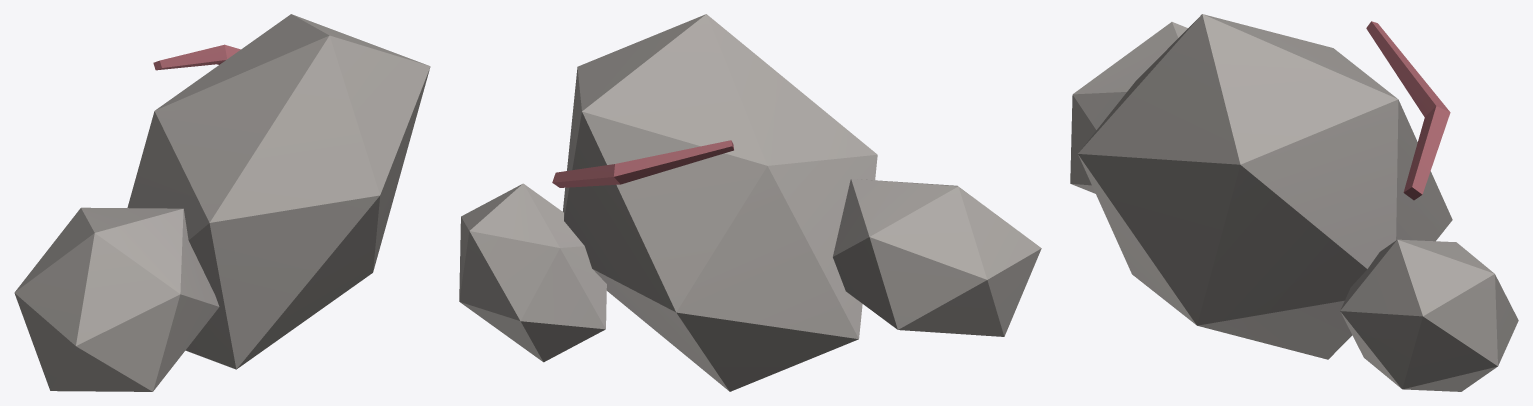
Rendered from BM_OreCluster.glb.
The picture shows the model from 3 angles, left to right: view 1: azimuth 30°, elevation 25°; view 2: azimuth 150°, elevation 25°; view 3: azimuth 270°, elevation 25°; orthographic projection. The views are drawn at different scales.
Visible parts, largest first — view 1: Body; view 2: Body; view 3: Body.
Boxes of the visible parts, bbox=[...] form: Body: bbox=[14, 14, 430, 391]; Body: bbox=[459, 14, 1041, 391]; Body: bbox=[1070, 14, 1518, 391].
Bounding box in the file's own units: 7.64 × 5.25 × 5.46.
